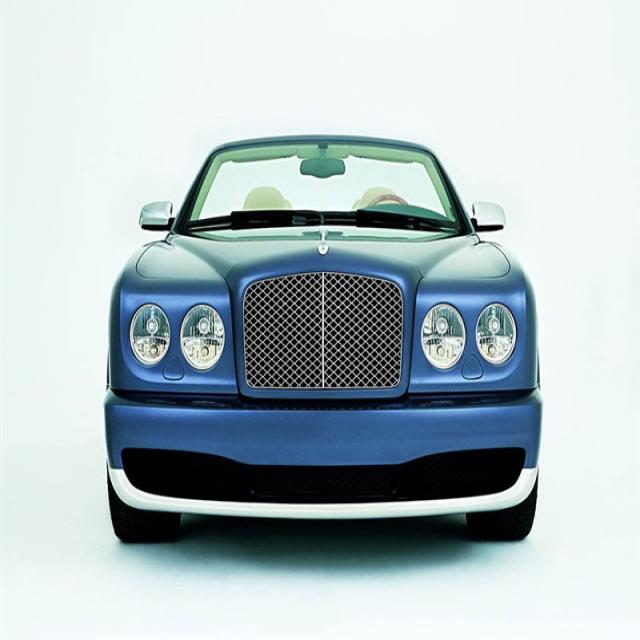front_bumper: (102, 386, 544, 522)
front_glass: (177, 136, 466, 235)
front_left_side_light: (418, 298, 518, 375)
front_left_side_mirror: (468, 198, 510, 242)
front_right_side_light: (128, 298, 226, 378)
front_right_side_mirror: (138, 199, 176, 237)
